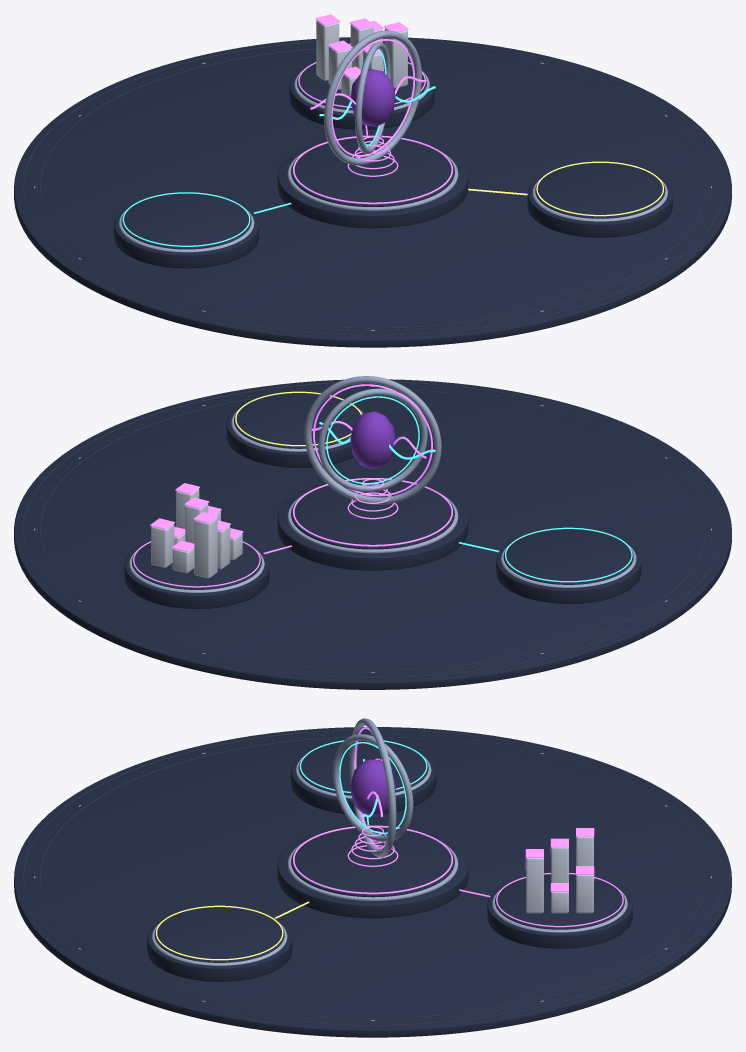
The model's file is observatory.glb.
3 renders of one model, top to bottom at view 1: azimuth 30°, elevation 25°; view 2: azimuth 150°, elevation 25°; view 3: azimuth 270°, elevation 25°, orthographic.
Visible parts, largest first — view 1: Static__Obsidian_enamel, Static__Inset_tracks, CoreSpin__Brushed_titanium, Static__Ceramic, Static__Brushed_titanium, Static__Violet_light, CoreSpin__Iris_crystal, CoreSpin__Violet_light, Static__Solar_amber, Static__Glacial_cyan; view 2: Static__Obsidian_enamel, CoreSpin__Brushed_titanium, Static__Inset_tracks, Static__Ceramic, Static__Violet_light, Static__Brushed_titanium, CoreSpin__Iris_crystal, CoreSpin__Violet_light, CoreSpin__Glacial_cyan, Static__Glacial_cyan; view 3: Static__Obsidian_enamel, Static__Inset_tracks, CoreSpin__Brushed_titanium, Static__Ceramic, Static__Brushed_titanium, Static__Violet_light, CoreSpin__Iris_crystal, Static__Solar_amber, CoreSpin__Glacial_cyan.
Part boxes in pixels (x1,y1,x2,y2): Static__Obsidian_enamel: (14,37,731,347); Static__Inset_tracks: (23,40,722,335); CoreSpin__Brushed_titanium: (324,30,421,165); Static__Ceramic: (316,20,407,97); Static__Brushed_titanium: (34,62,711,330); Static__Violet_light: (293,14,452,204); CoreSpin__Iris_crystal: (350,69,395,126); CoreSpin__Violet_light: (310,39,426,156); Static__Solar_amber: (468,161,663,216); Static__Glacial_cyan: (122,192,291,246); Static__Obsidian_enamel: (14,379,731,689); CoreSpin__Brushed_titanium: (304,376,441,504); Static__Inset_tracks: (23,382,722,678); Static__Ceramic: (151,489,242,578); Static__Violet_light: (133,478,452,587); Static__Brushed_titanium: (34,386,711,673); CoreSpin__Iris_crystal: (350,411,395,469); CoreSpin__Violet_light: (312,384,432,496); CoreSpin__Glacial_cyan: (319,396,435,484); Static__Glacial_cyan: (459,527,632,582); Static__Obsidian_enamel: (14,727,731,1037); Static__Inset_tracks: (23,729,722,1025); CoreSpin__Brushed_titanium: (332,718,413,857); Static__Ceramic: (526,836,593,913); Static__Brushed_titanium: (34,734,711,1020); Static__Violet_light: (293,825,623,927); CoreSpin__Iris_crystal: (350,759,395,816); Static__Solar_amber: (156,901,309,960); CoreSpin__Glacial_cyan: (339,742,406,834).
Bounding box in the file's own units: 19.2 × 4.78 × 19.2.
